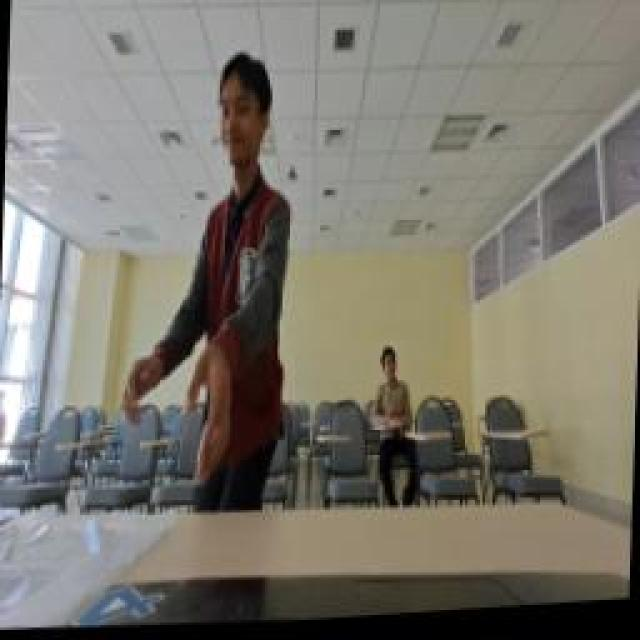study: (370, 350, 415, 435)
